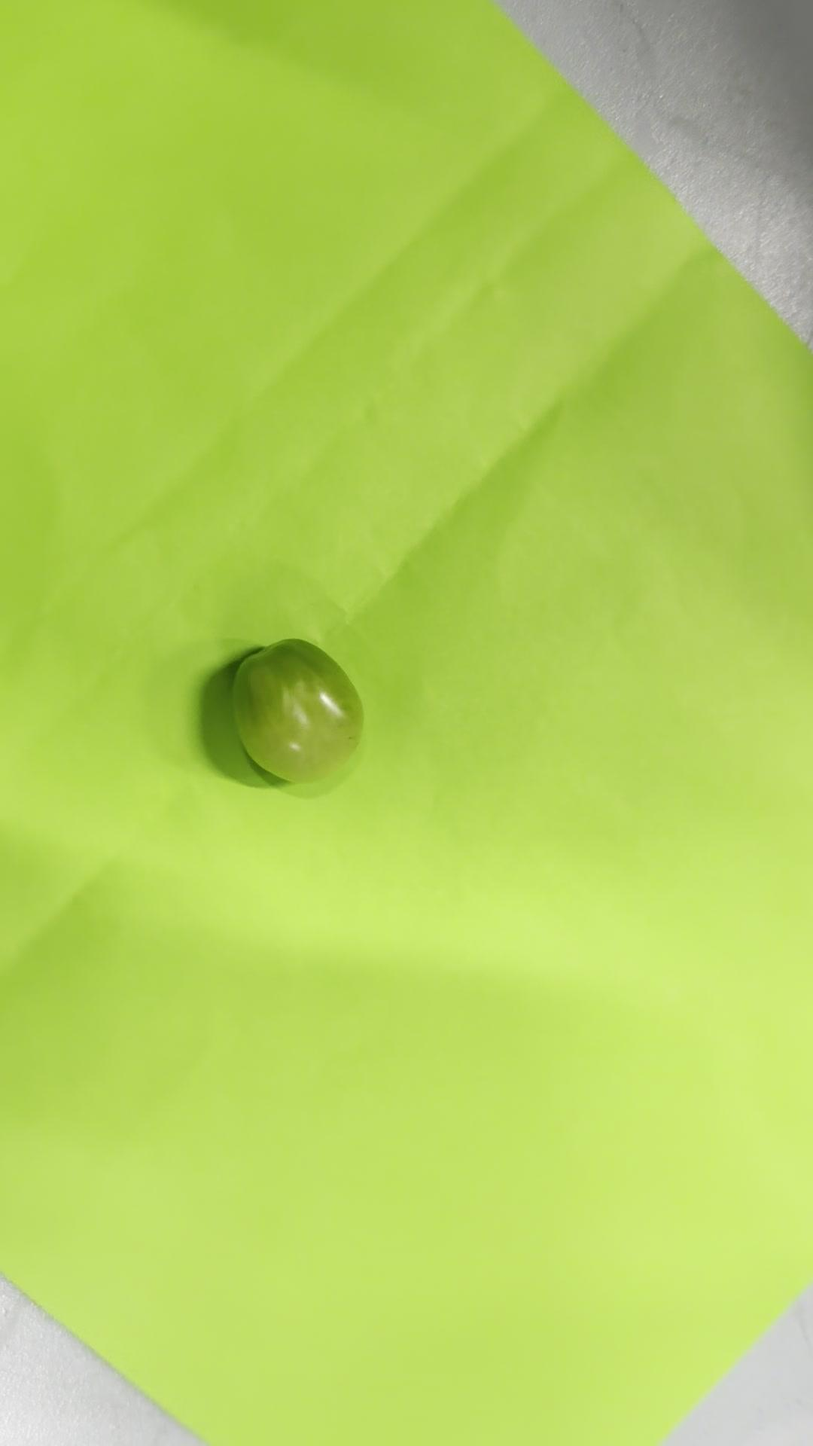green_cherry_tomato: (233, 639, 364, 784)
